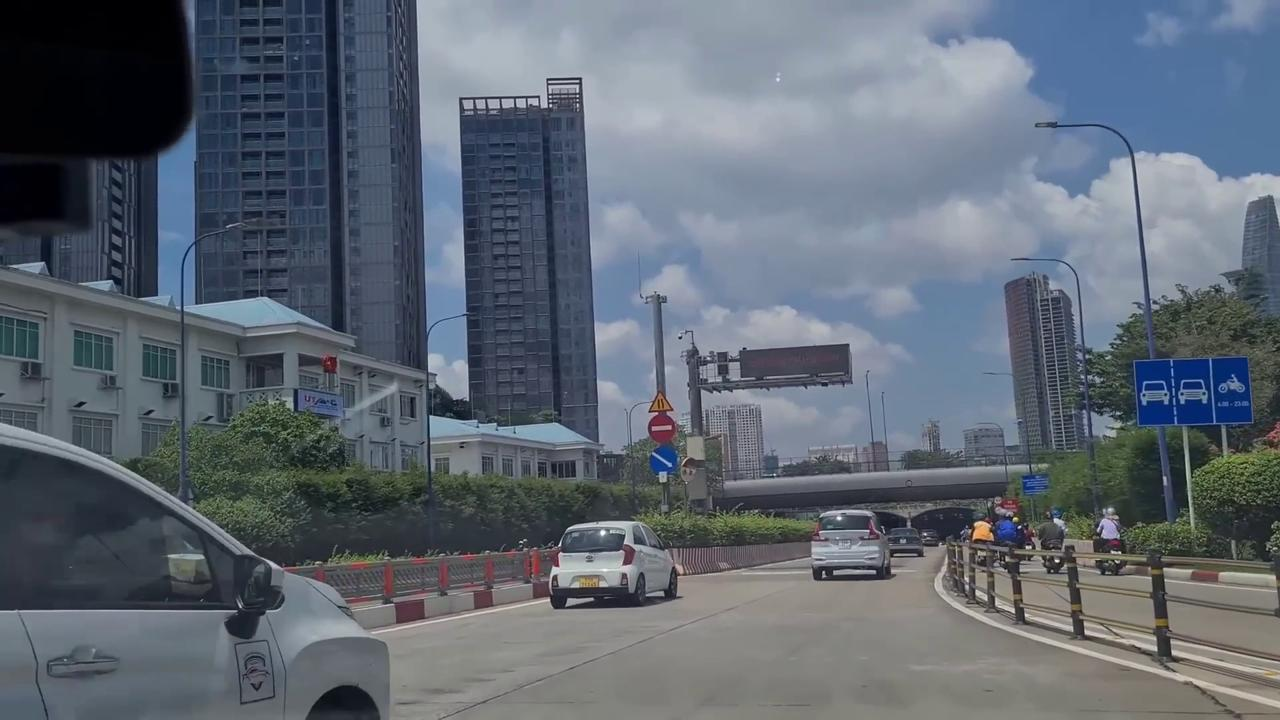Cấm đi ngược chiều: (648, 413, 678, 444)
Hướng phải đi vòng sang phải: (649, 444, 678, 474)
Làn đường cho từng xe: (1132, 356, 1255, 427)
Đuờng hẹp: (647, 391, 675, 412)
